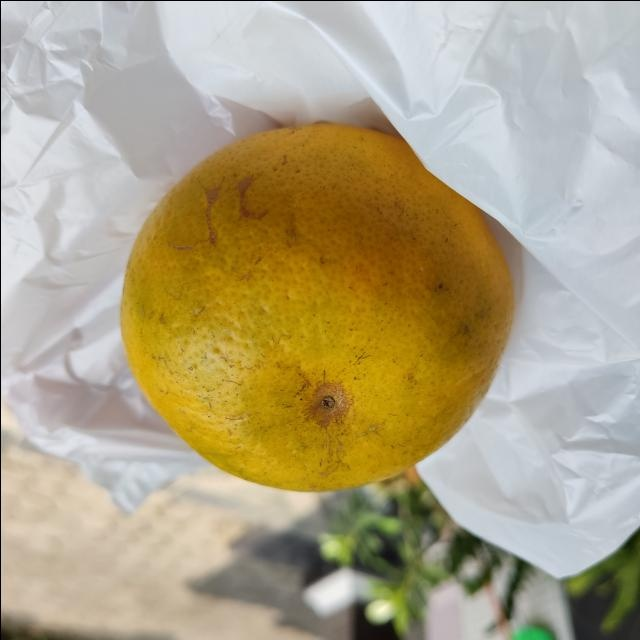agrume: (118, 120, 519, 496)
